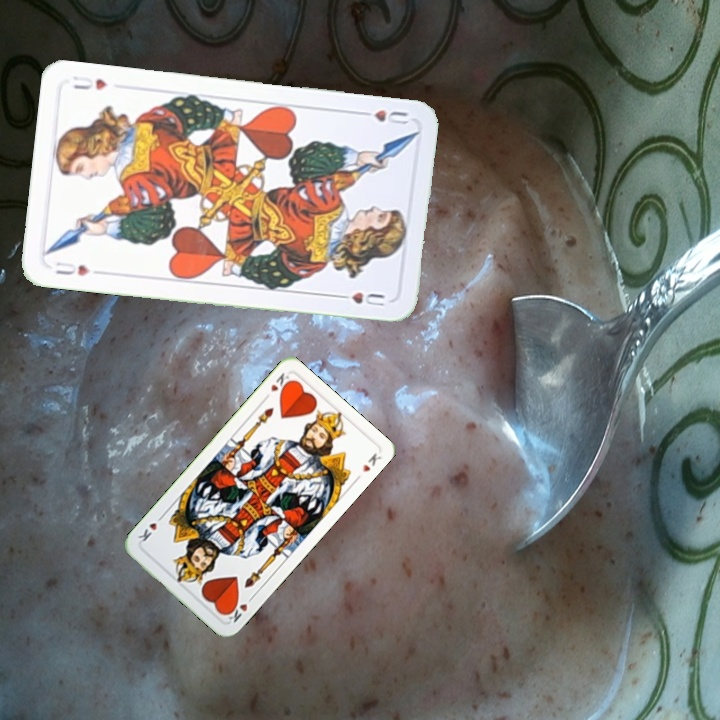HK: (259, 369, 294, 403), (222, 591, 257, 625)
HU: (354, 105, 411, 127), (52, 257, 92, 278)
